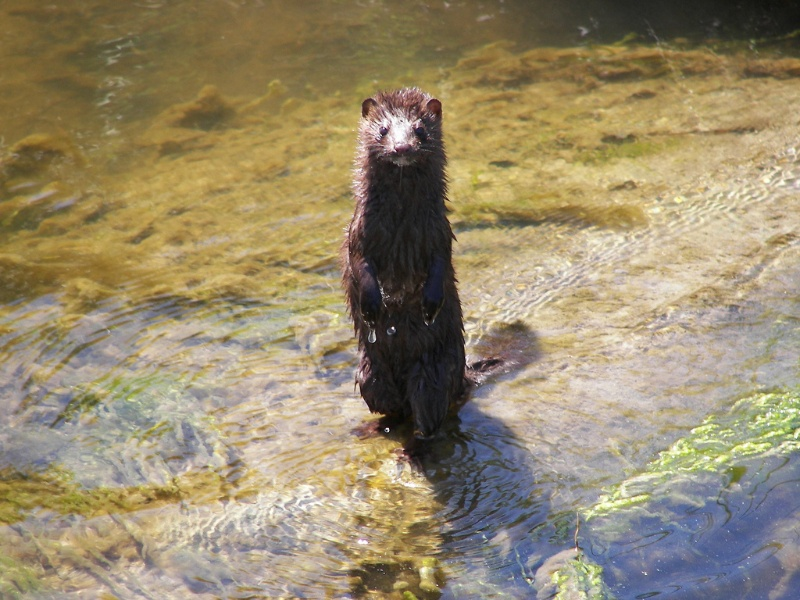minkish: (338, 87, 509, 458)
